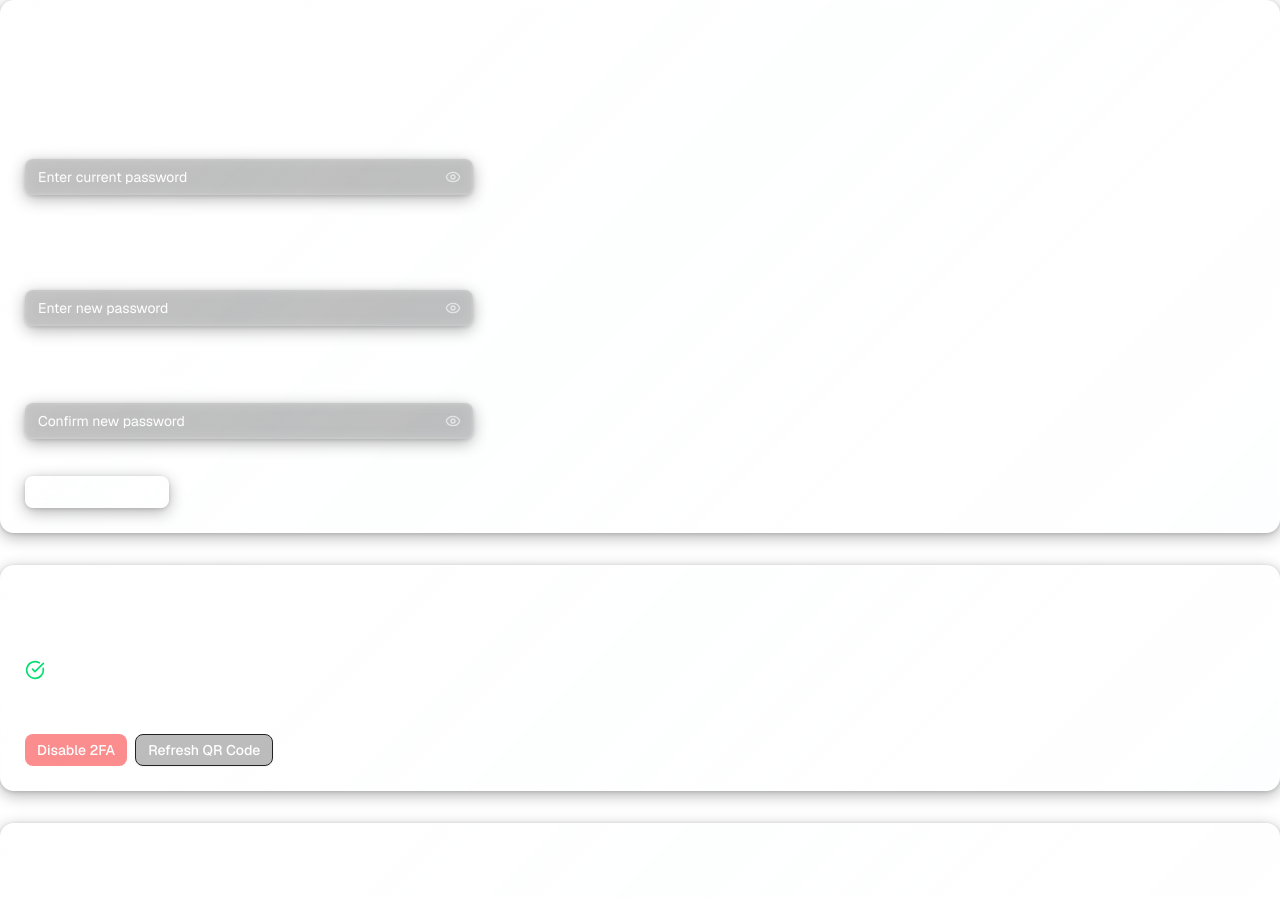
Test: SecuritySettingsPage › shows validation error when passwords do not match
This screenshot has width=1280, height=898.
In the password field with placeholder "Enter current password": (249, 177) [25, 159, 473, 195], type "oldpass"
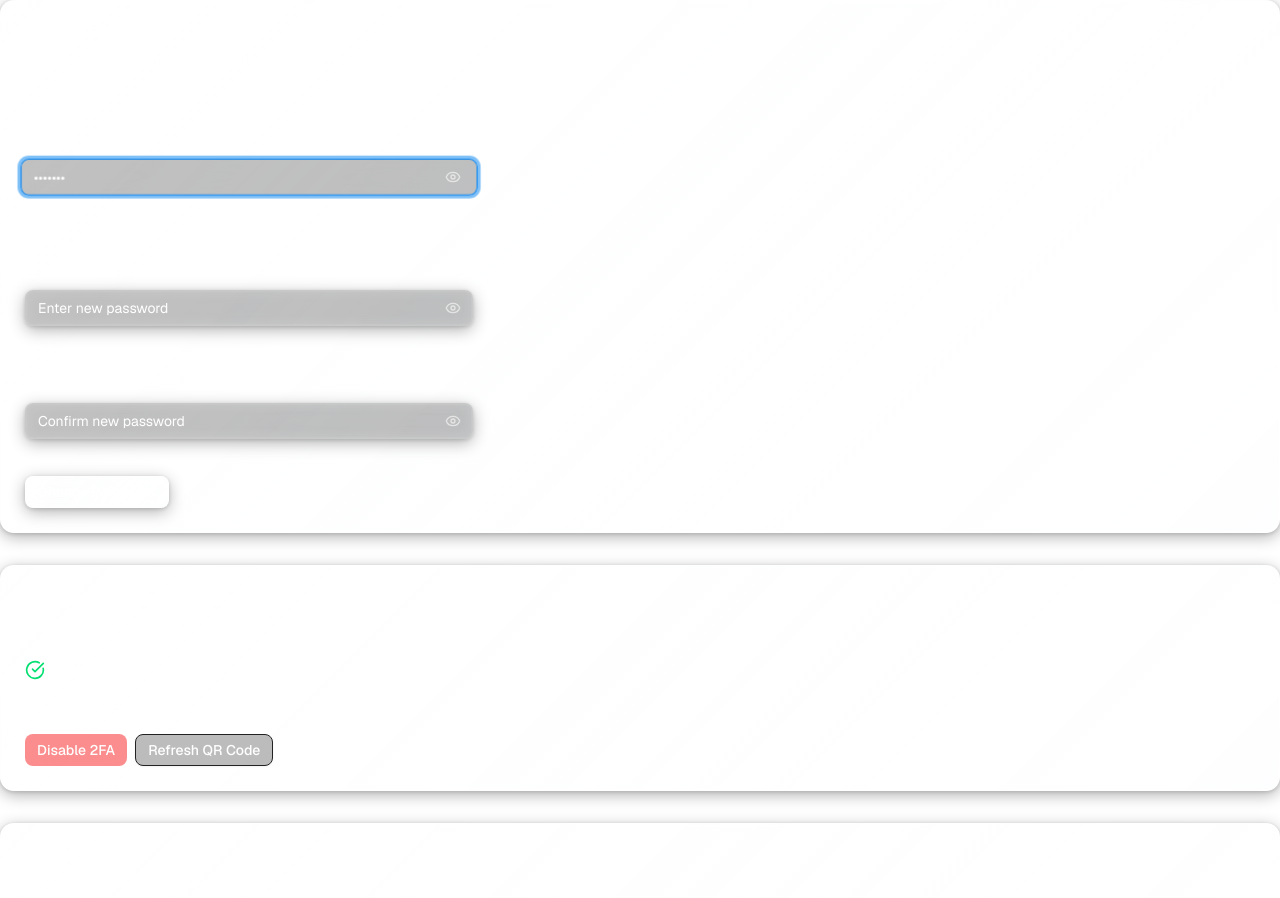
In the password field with placeholder "Enter new password": (249, 308) [25, 290, 473, 326], type "newpassword123"
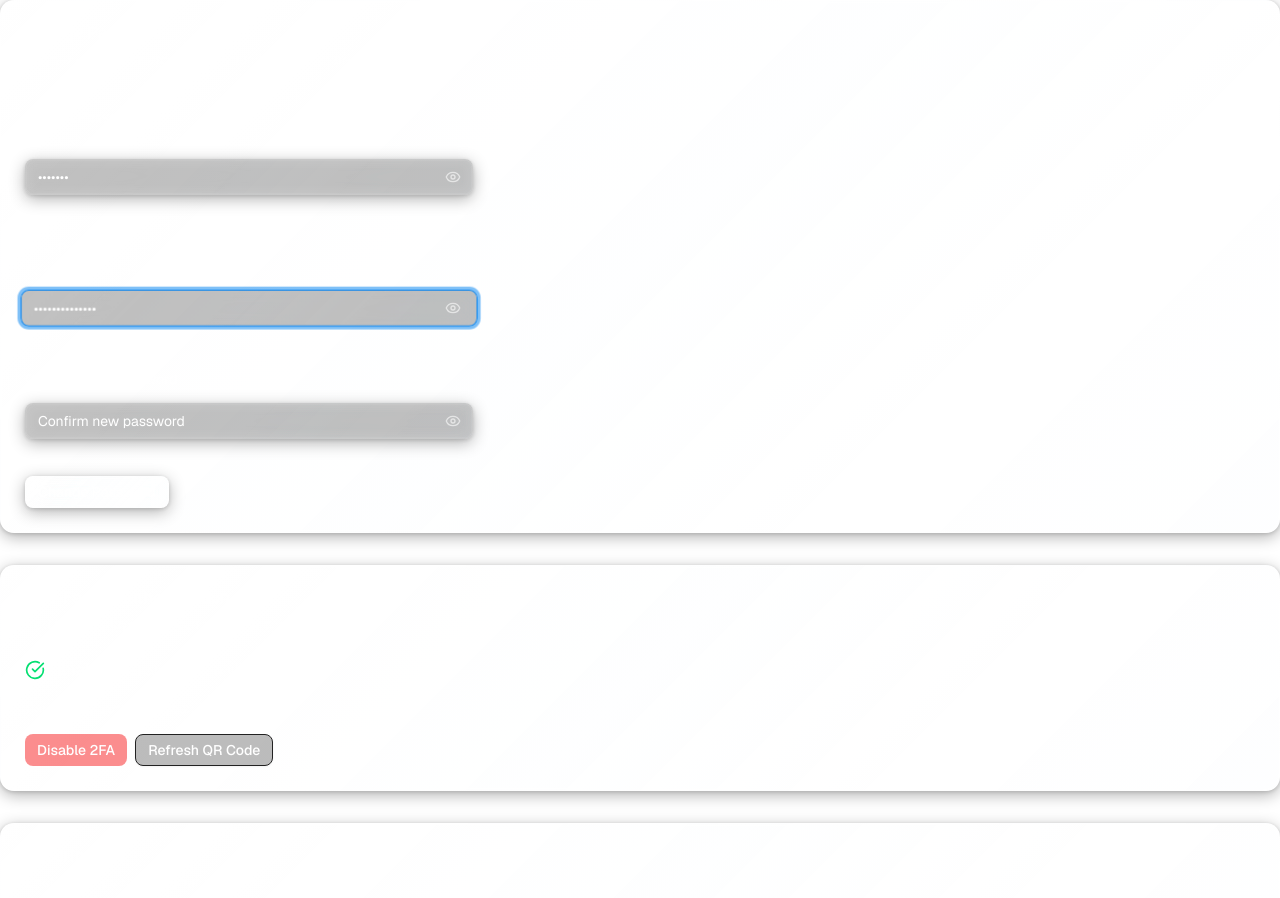
In the password field with placeholder "Confirm new password": (249, 421) [25, 403, 473, 439], type "different"
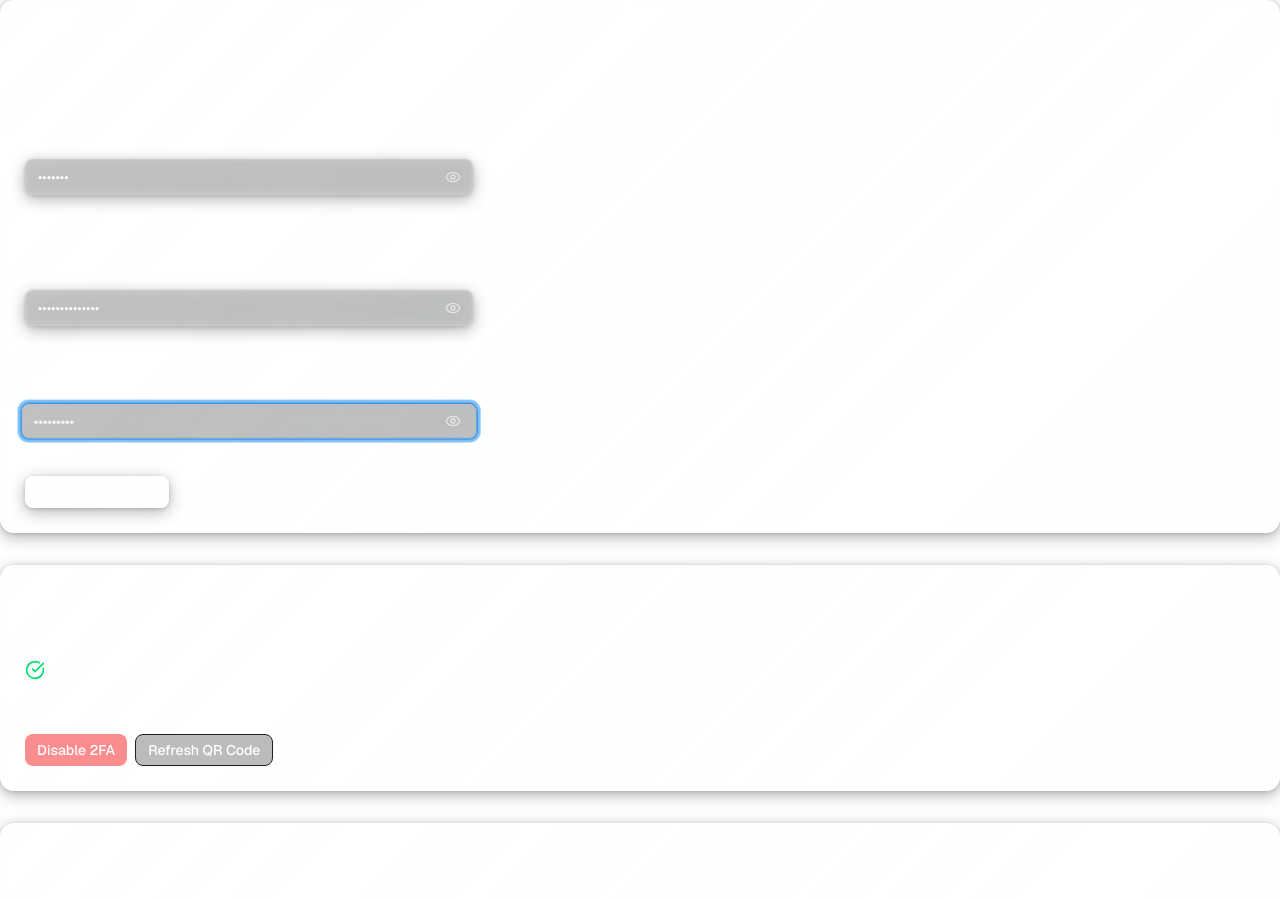
Click the button "Change Password": (97, 492) [25, 476, 169, 508]
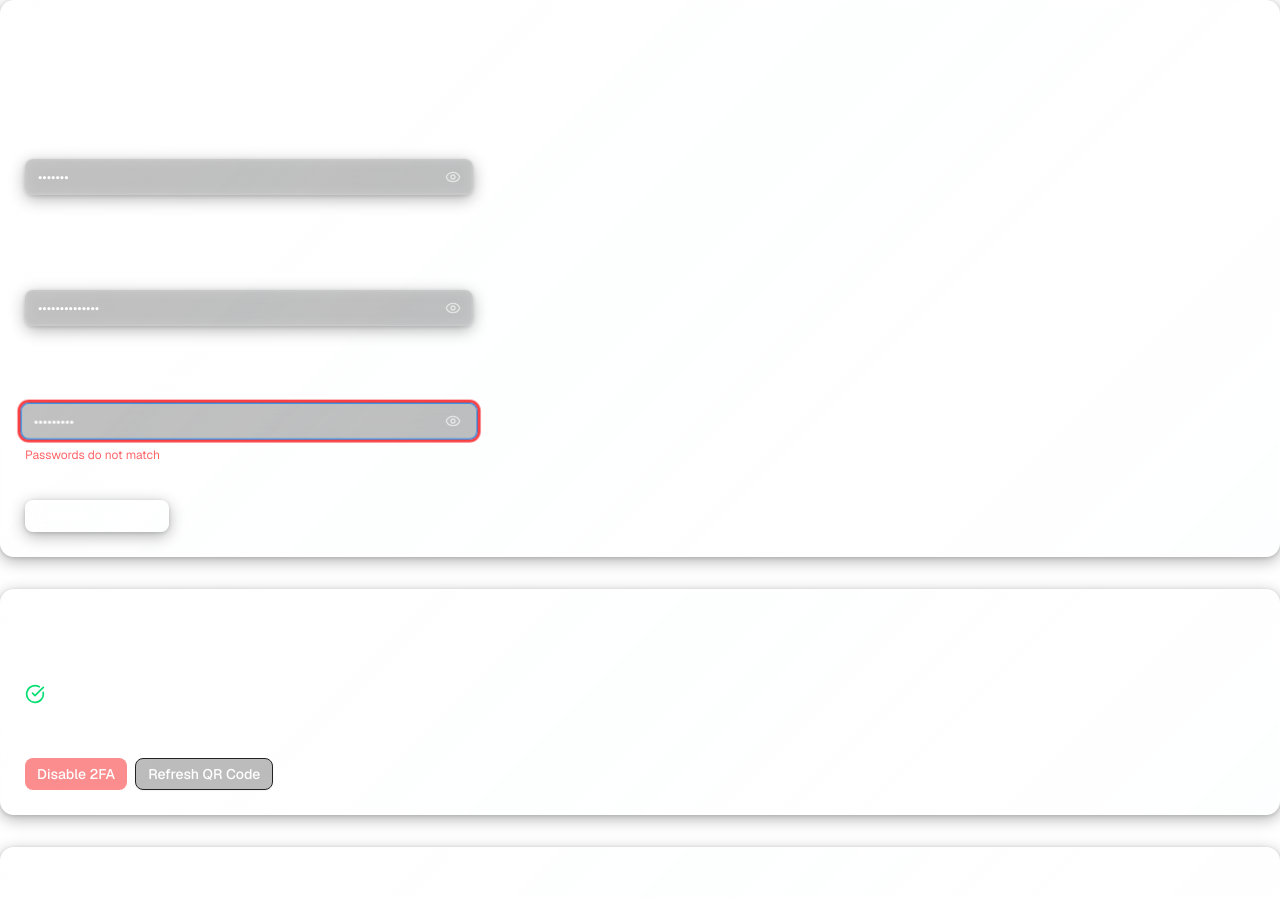
Check: the text "Passwords do not match" is shown, box [25, 447, 160, 463]
